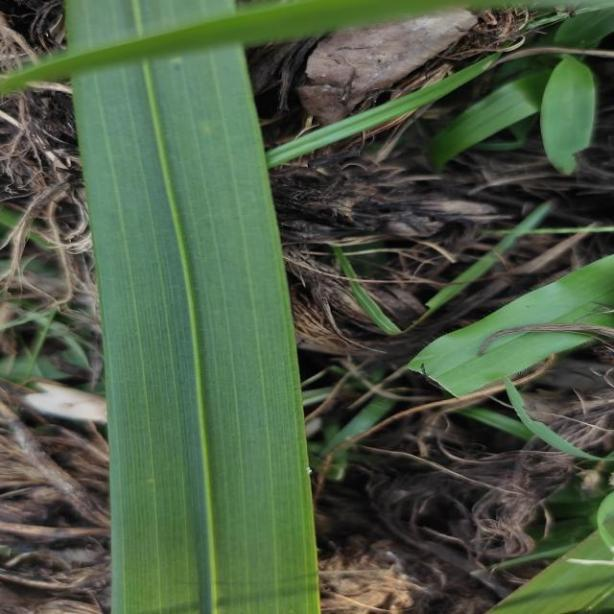Healthy: (65, 0, 322, 614)
